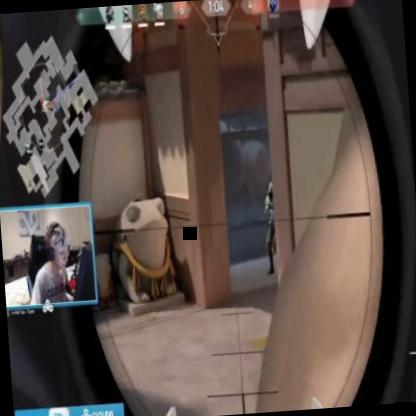enemy: (258, 178, 290, 283)
enemy_head: (268, 181, 276, 198)
